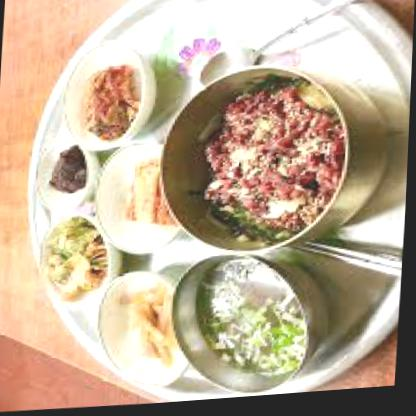Kimchi stew: (116, 156, 183, 235)
Korean style raw beef: (189, 79, 348, 239)
